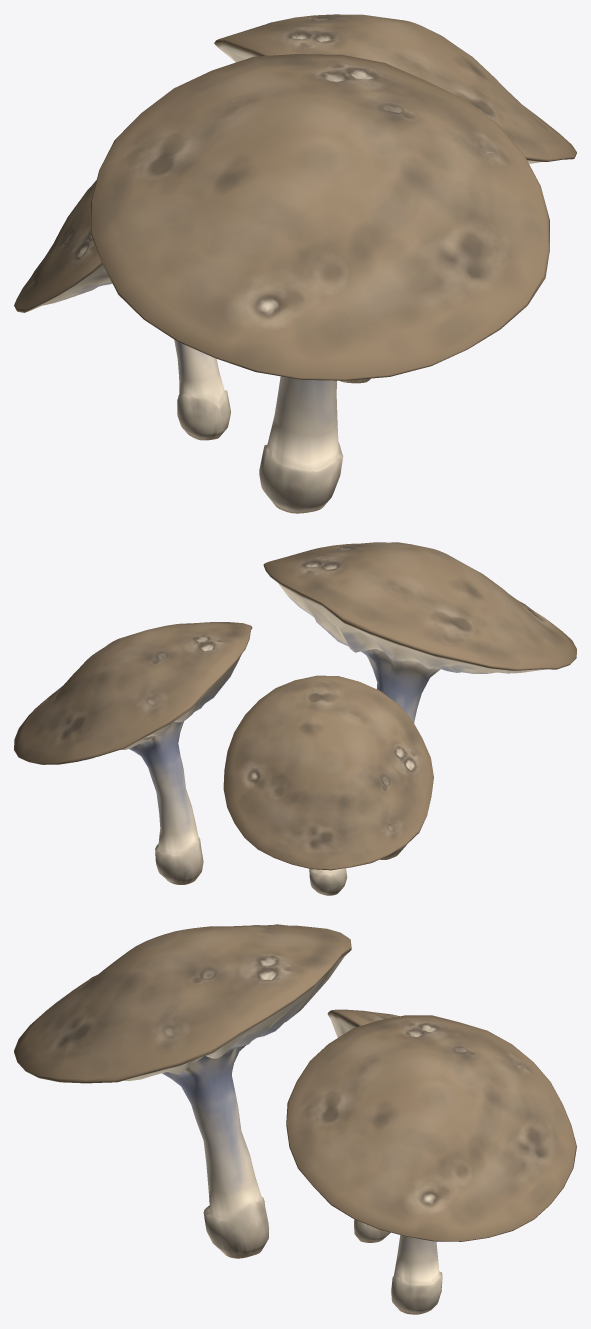
File: big_shrooms.obj
3 views of the same model, one above another, from view 1: azimuth 30°, elevation 25°; view 2: azimuth 150°, elevation 25°; view 3: azimuth 270°, elevation 25° (orthographic). The views are drawn at different scales.
Visible parts, largest first — view 1: BigMush.LoPoly.005_Cylinder.008, BigMush.LoPoly.006_Cylinder.012, BigMush.LoPoly.007_Cylinder.013; view 2: BigMush.LoPoly.007_Cylinder.013, BigMush.LoPoly.005_Cylinder.008, BigMush.LoPoly.006_Cylinder.012; view 3: BigMush.LoPoly.006_Cylinder.012, BigMush.LoPoly.005_Cylinder.008, BigMush.LoPoly.007_Cylinder.013.
Part boxes in pixels (<box>): BigMush.LoPoly.005_Cylinder.008: <box>90,54,549,513</box>; BigMush.LoPoly.006_Cylinder.012: <box>214,14,576,383</box>; BigMush.LoPoly.007_Cylinder.013: <box>14,180,230,440</box>; BigMush.LoPoly.007_Cylinder.013: <box>223,675,433,895</box>; BigMush.LoPoly.005_Cylinder.008: <box>263,542,576,859</box>; BigMush.LoPoly.006_Cylinder.012: <box>14,622,252,884</box>; BigMush.LoPoly.006_Cylinder.012: <box>286,1015,576,1314</box>; BigMush.LoPoly.005_Cylinder.008: <box>14,924,351,1258</box>; BigMush.LoPoly.007_Cylinder.013: <box>327,1009,399,1242</box>.
Size of the model in its own units: 1.73 by 1.15 by 1.87.
